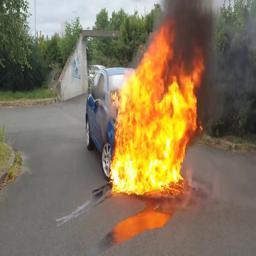fire: (112, 19, 206, 194)
